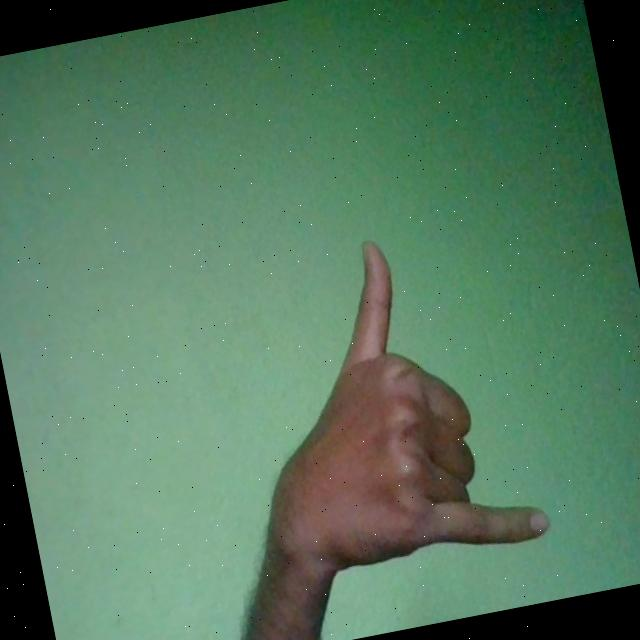Call Me: (210, 214, 550, 592)
